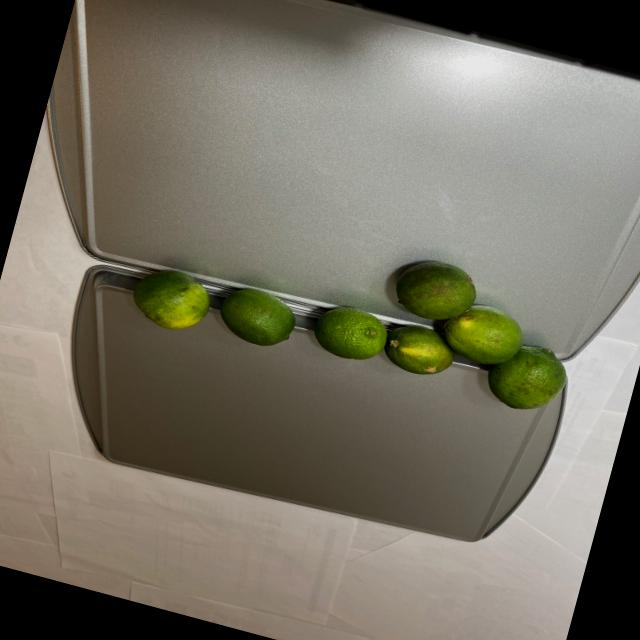lemon: (108, 183, 588, 434)
